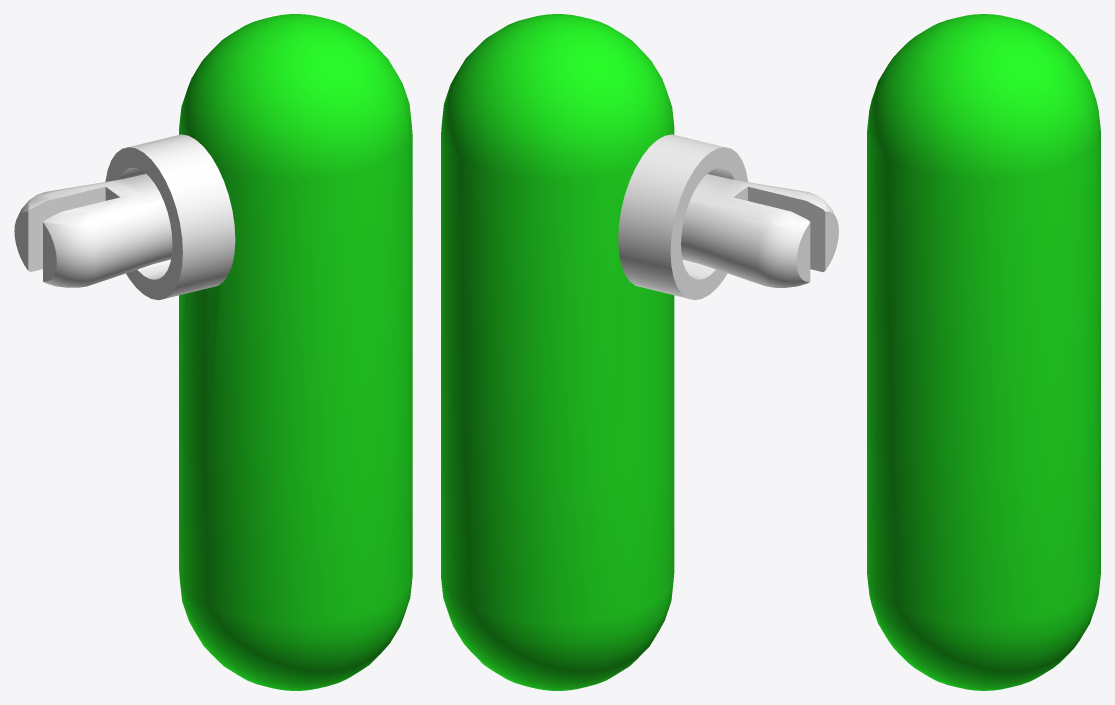
The model's file is arm_l.fbx.
3 renders of one model, left to right at view 1: azimuth 30°, elevation 25°; view 2: azimuth 150°, elevation 25°; view 3: azimuth 270°, elevation 25°, orthographic.
Visible parts, largest first — view 1: shoulder_l, hand_l, shoulder_pin_l, shoulder_ring_l; view 2: shoulder_l, hand_l, shoulder_pin_l, shoulder_ring_l; view 3: shoulder_l, hand_l.
Boxes of the visible parts, x1,y1,x2,y2 form: shoulder_l: (179, 14, 412, 472); hand_l: (179, 421, 412, 690); shoulder_pin_l: (14, 174, 172, 287); shoulder_ring_l: (105, 134, 235, 300); shoulder_l: (441, 14, 674, 472); hand_l: (441, 423, 674, 690); shoulder_pin_l: (681, 174, 838, 287); shoulder_ring_l: (618, 134, 747, 300); shoulder_l: (867, 14, 1100, 472); hand_l: (867, 424, 1100, 690).
Bounding box in the file's own units: 19.98 × 34.63 × 11.2.
